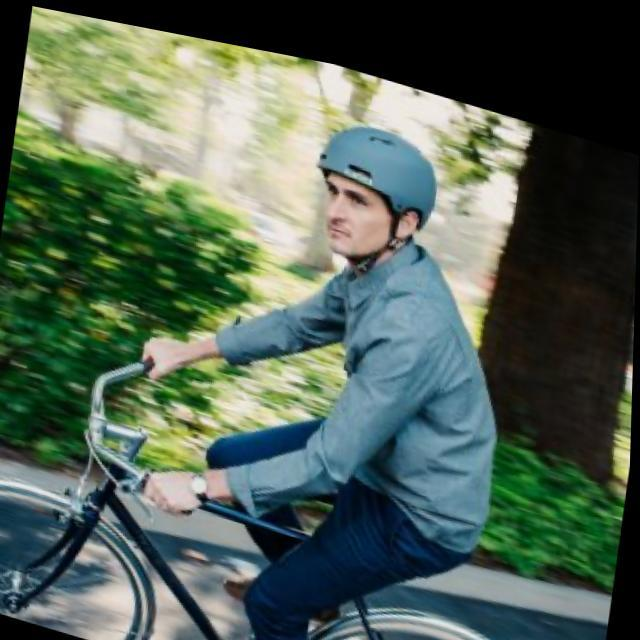Helmet: (312, 112, 439, 273)
